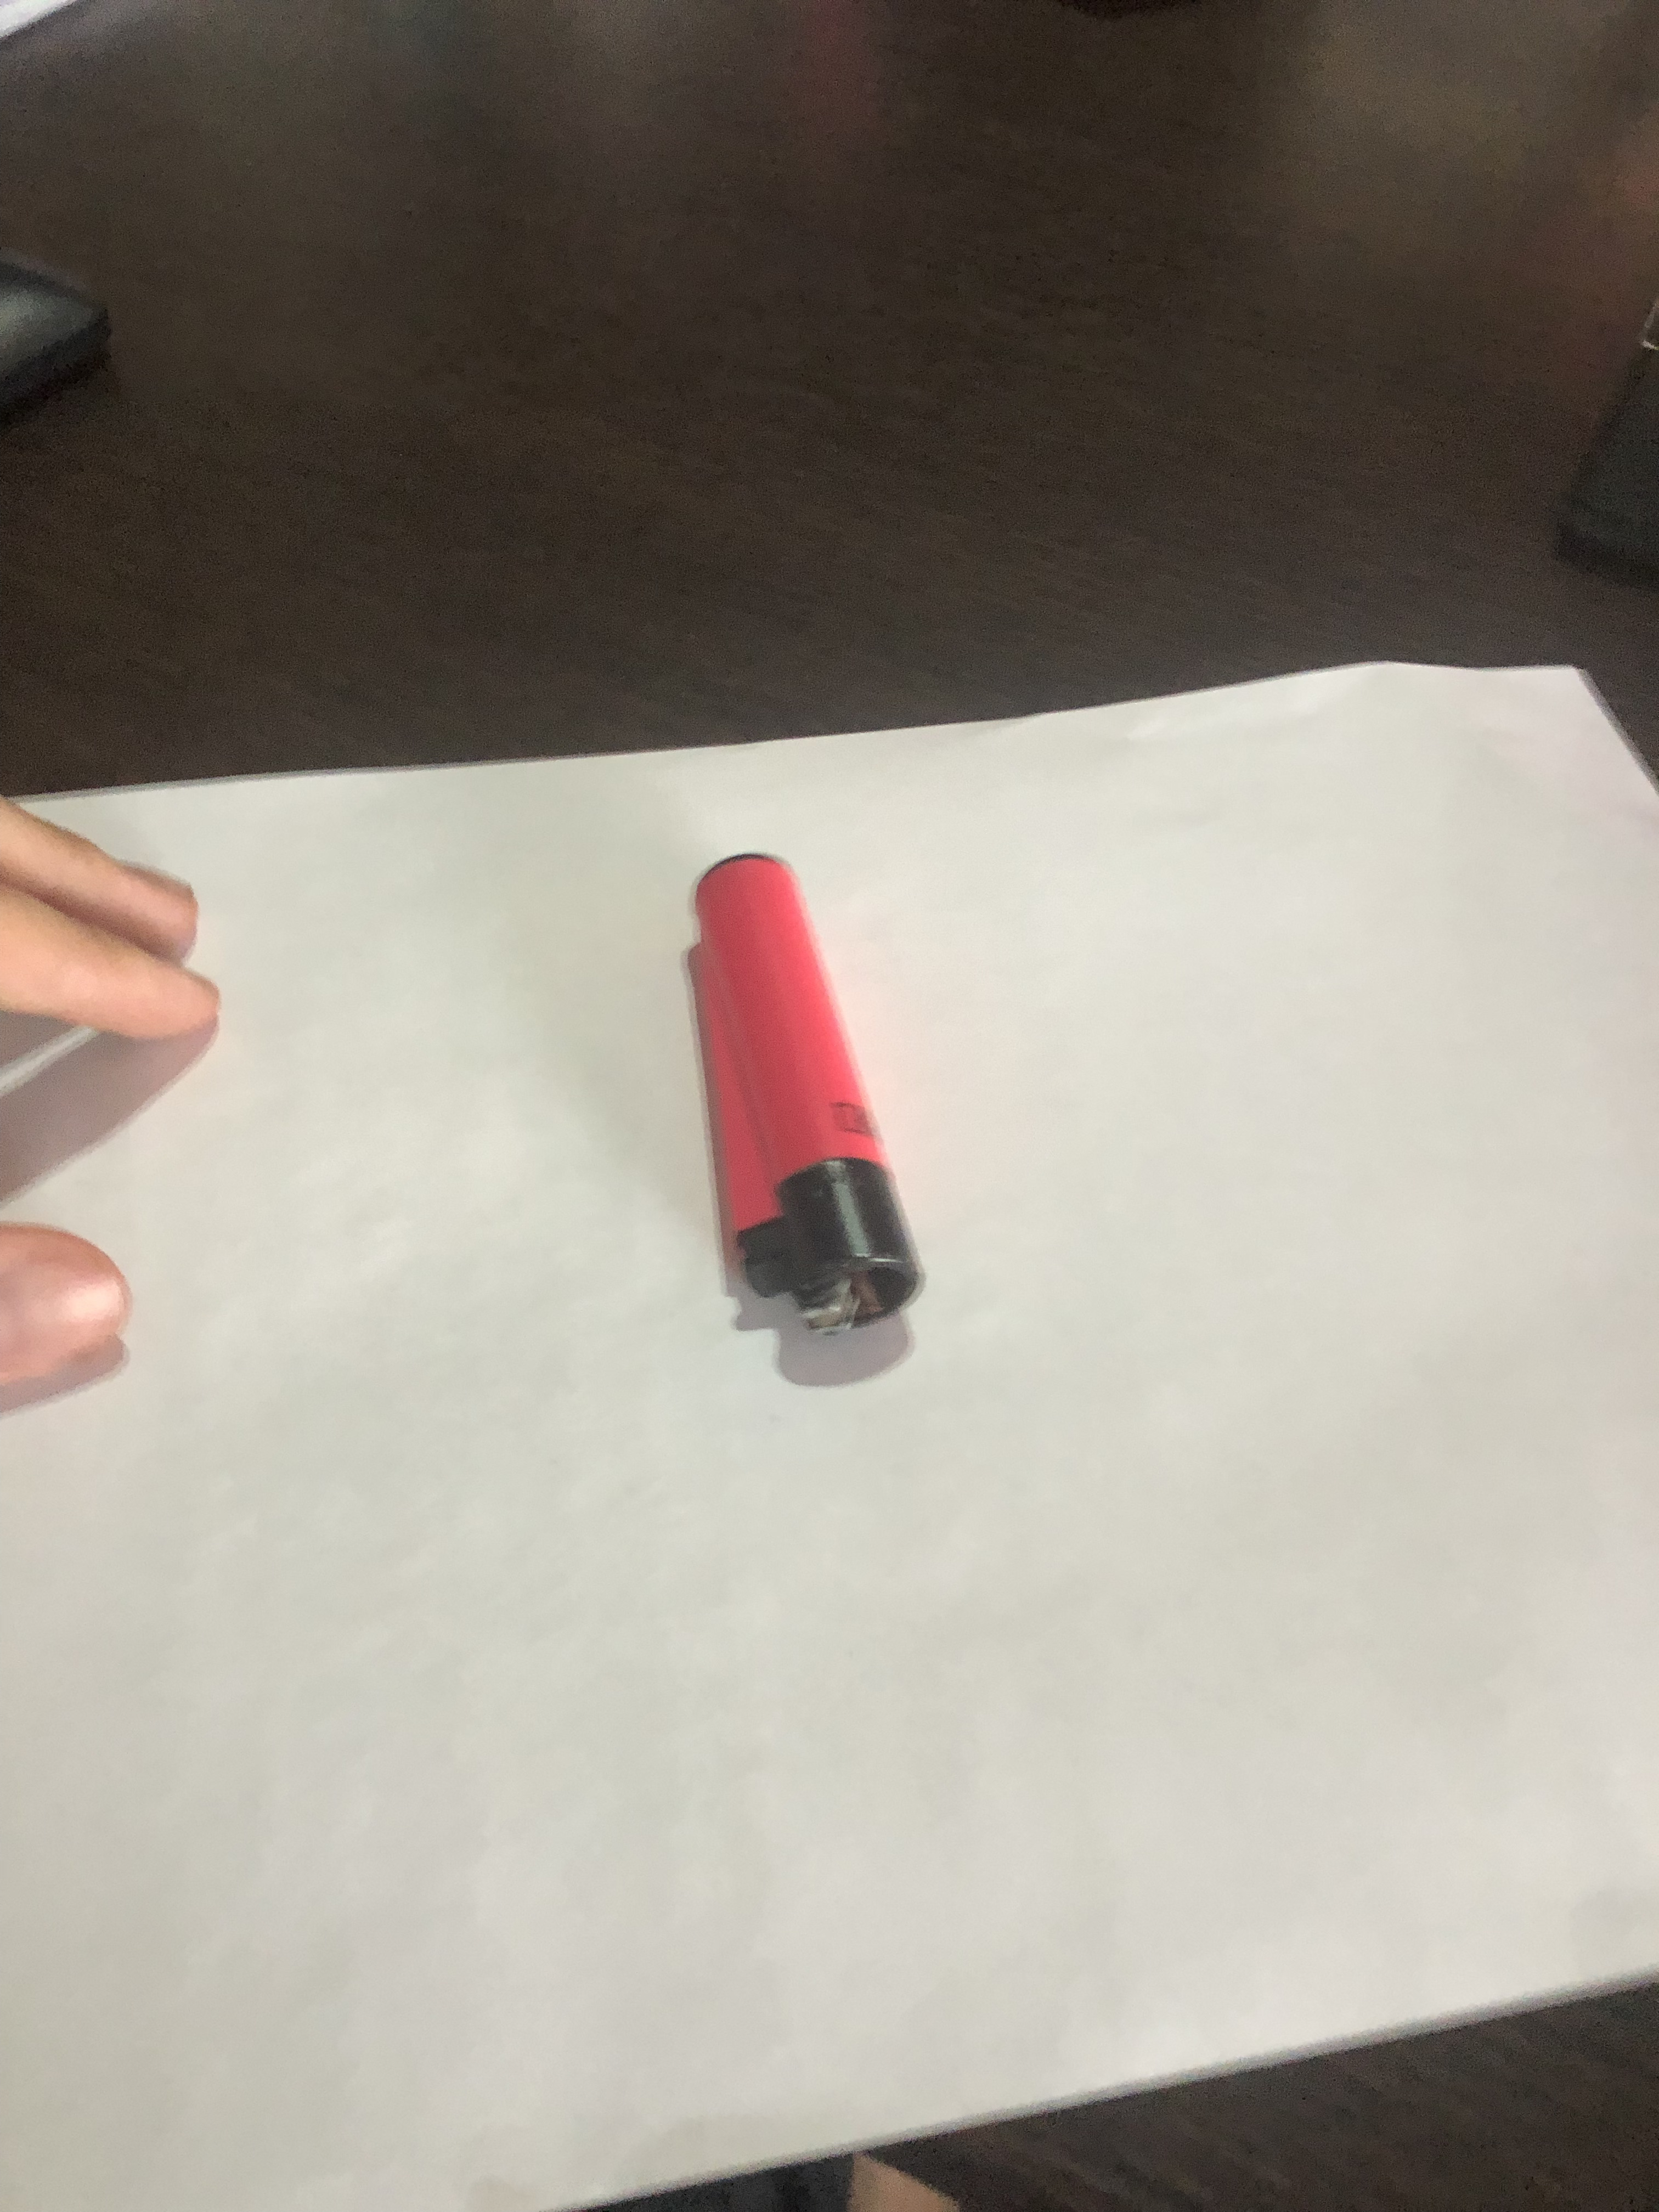Mechero: (652, 853, 920, 1390)
